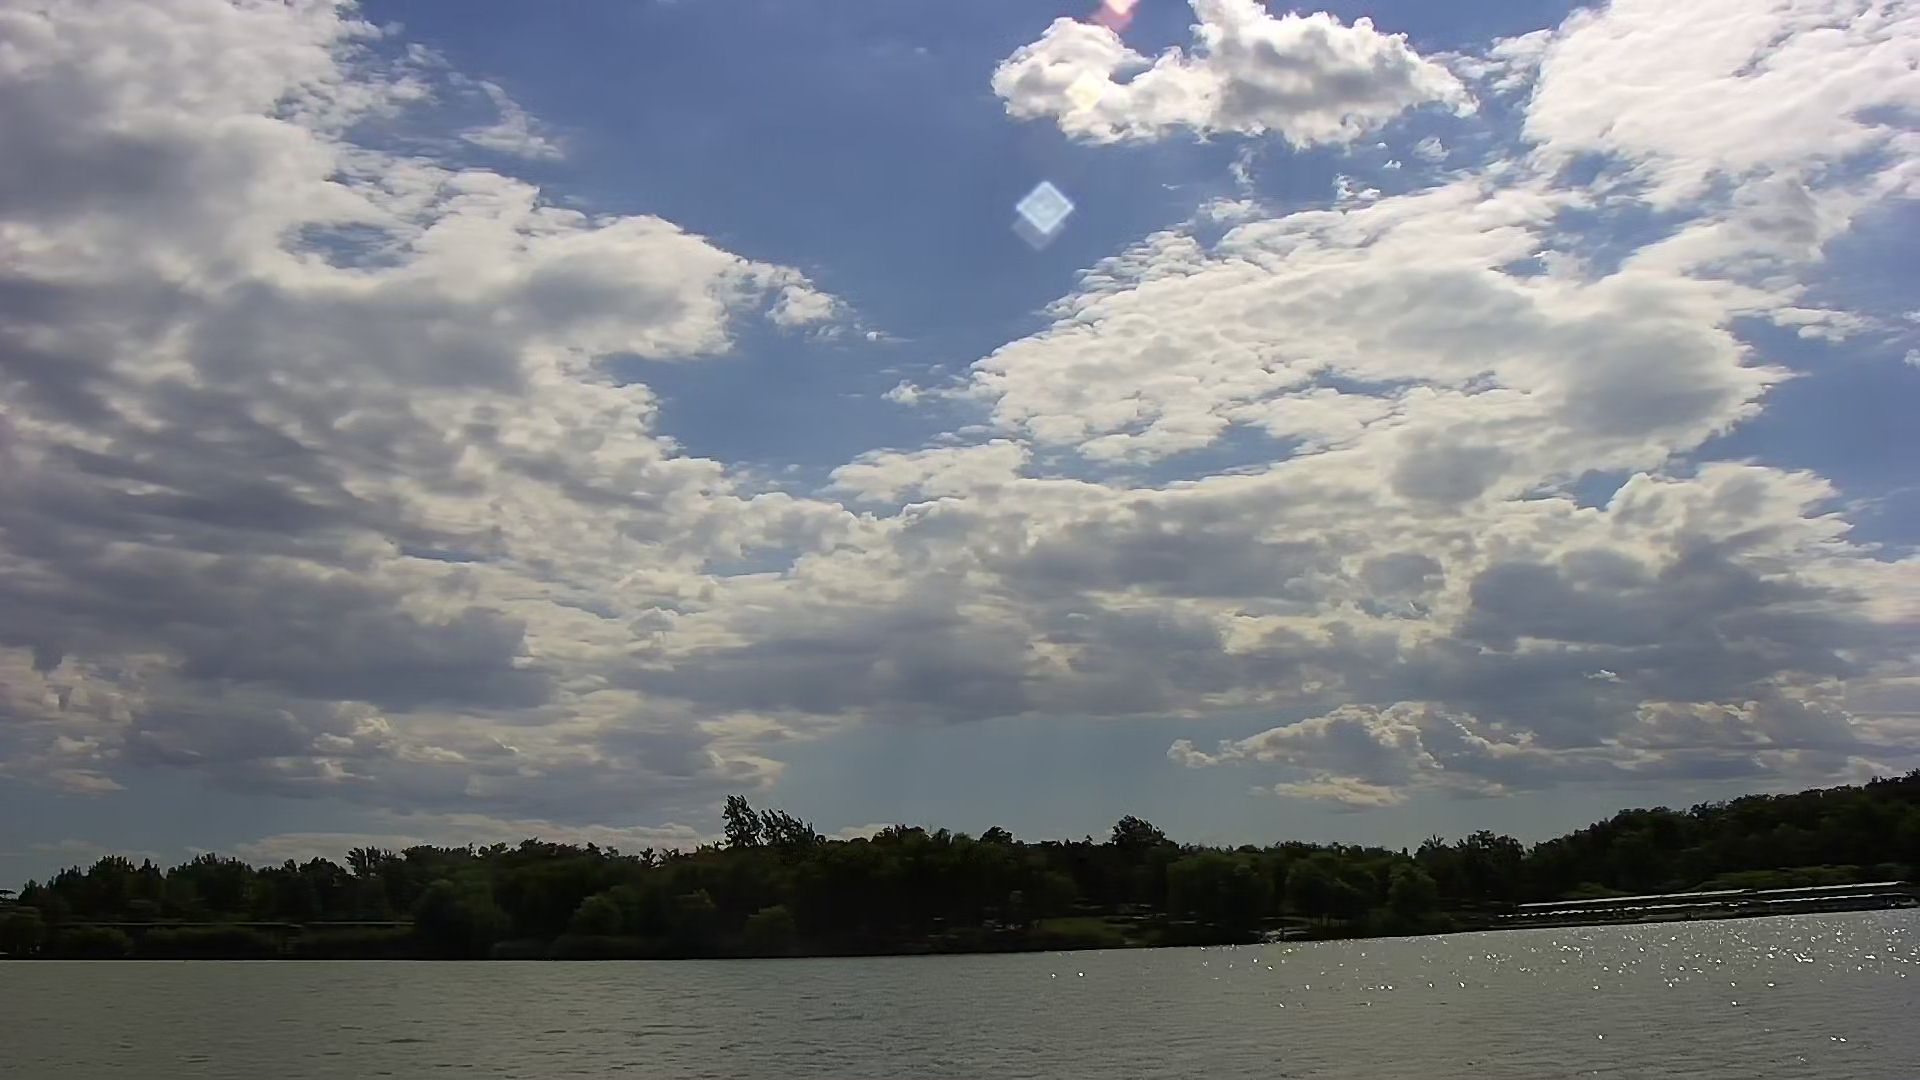harbor: (1523, 880, 1898, 919)
